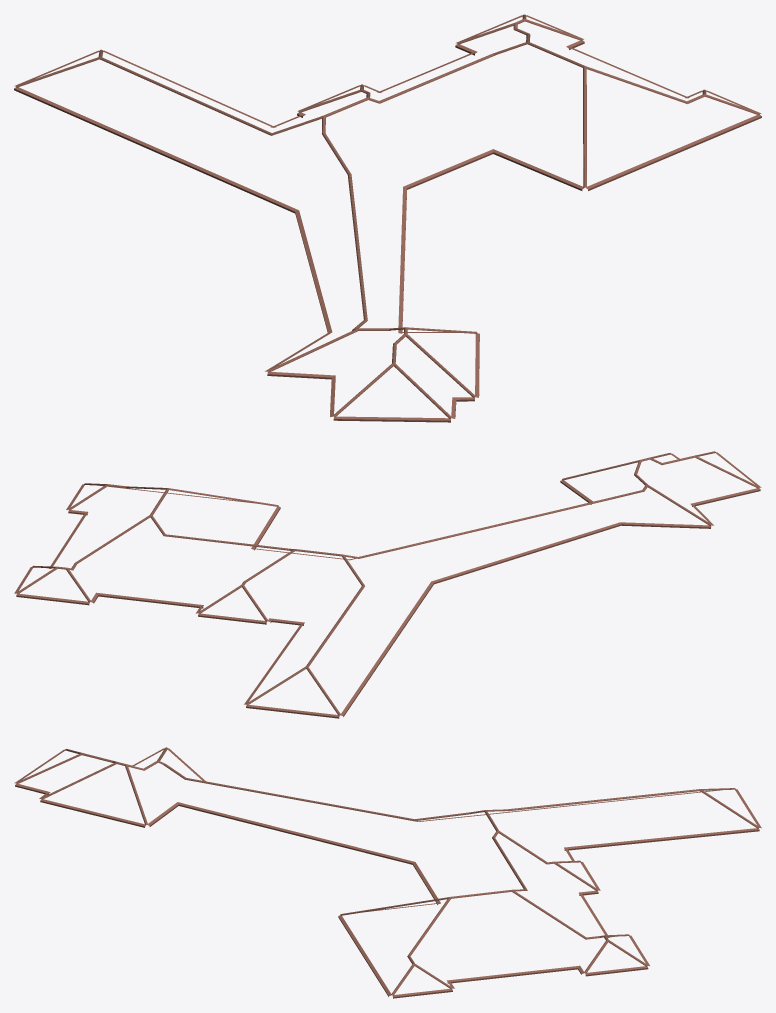
3 views of the same model, one above another, from view 1: azimuth 30°, elevation 25°; view 2: azimuth 150°, elevation 25°; view 3: azimuth 270°, elevation 25° (orthographic). The views are drawn at different scales.
Visible parts, largest first — view 1: detail; view 2: detail; view 3: detail.
Boxes of the visible parts, bbox=[...] form: detail: bbox=[14, 14, 761, 422]; detail: bbox=[14, 451, 761, 718]; detail: bbox=[14, 747, 761, 998].
Bounding box in the file's own units: 57.48 × 5.13 × 72.98.
